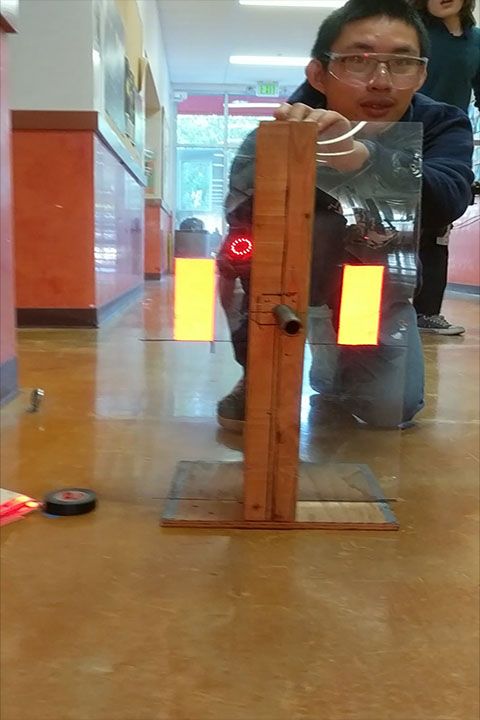gear: (336, 265, 384, 345), (173, 258, 216, 341)
